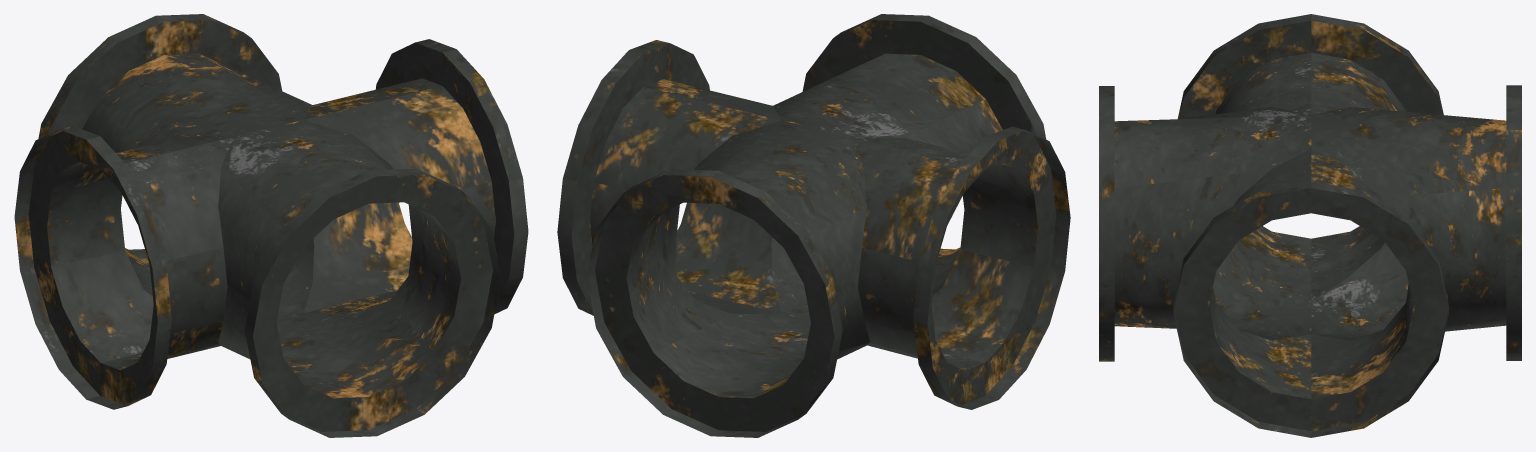
File: pipe4Way.fbx
3 views of the same model, side by side, from view 1: azimuth 30°, elevation 25°; view 2: azimuth 150°, elevation 25°; view 3: azimuth 270°, elevation 25° (orthographic). The views are drawn at different scales.
Parts seen in each view (by area): view 1: pipe4Way; view 2: pipe4Way; view 3: pipe4Way.
Part boxes in pixels (x1,y1,x2,y2): pipe4Way: (14, 14, 528, 437); pipe4Way: (557, 14, 1070, 437); pipe4Way: (1099, 14, 1521, 437).
Bounding box in the file's own units: 0.6409 × 0.4296 × 0.6587.
